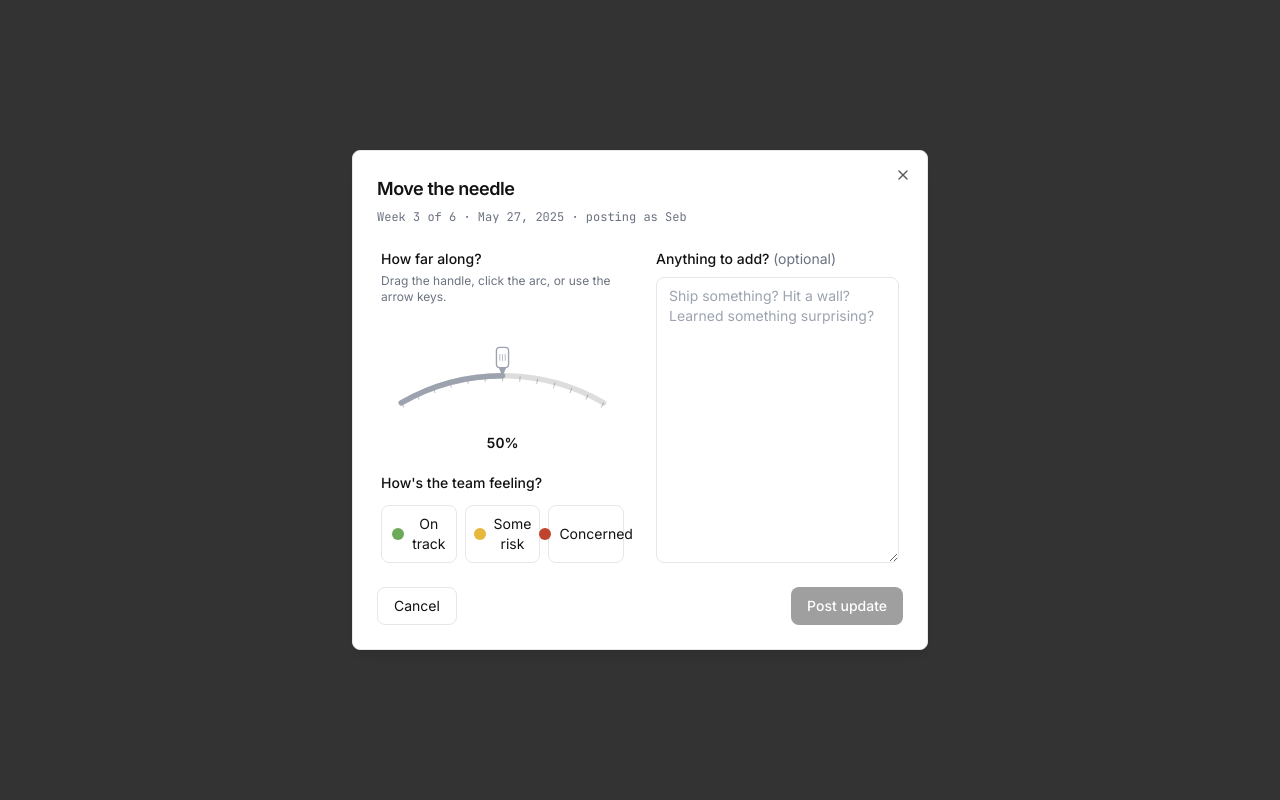
MoveNeedleModal › disables posting until a zone is chosen (narrative is optional)
The width and height of the screenshot is (1280, 800).
Check: the button "Post update" is disabled, box top-left (791, 587), bottom-right (903, 625)
Note: Choosing a zone is enough — narrative is optional.
Click the button "Concerned" at (586, 534), box top-left (548, 505), bottom-right (624, 563)
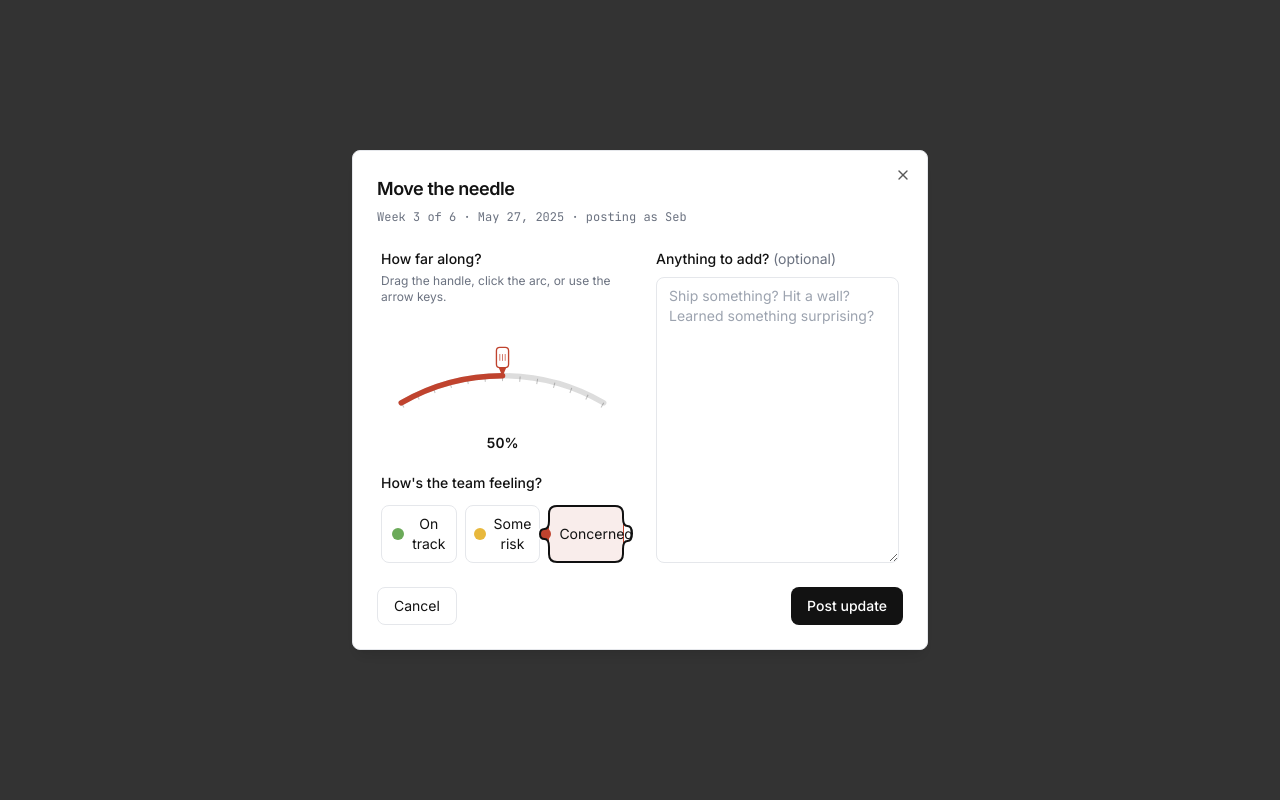
Check: the button "Post update" is enabled, box top-left (791, 587), bottom-right (903, 625)
